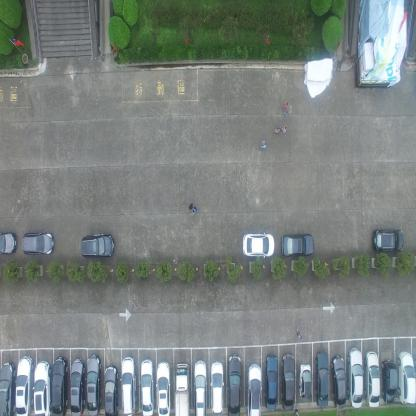car: (14, 354, 33, 416), (348, 346, 363, 412), (120, 356, 136, 416), (86, 355, 102, 415), (51, 356, 67, 416), (242, 231, 275, 260), (33, 359, 50, 415), (80, 232, 115, 259), (281, 353, 296, 414), (398, 351, 414, 408), (0, 359, 16, 416), (365, 351, 380, 411), (226, 356, 241, 416), (380, 358, 398, 406), (331, 354, 346, 411), (69, 358, 84, 415), (315, 351, 329, 411), (20, 231, 54, 255), (246, 364, 262, 415), (173, 364, 189, 415), (264, 354, 278, 412), (156, 362, 171, 415), (281, 234, 314, 258), (140, 359, 154, 415), (374, 228, 404, 254), (103, 364, 118, 416), (193, 360, 207, 415), (210, 362, 224, 415), (298, 362, 313, 402), (0, 230, 17, 255)
